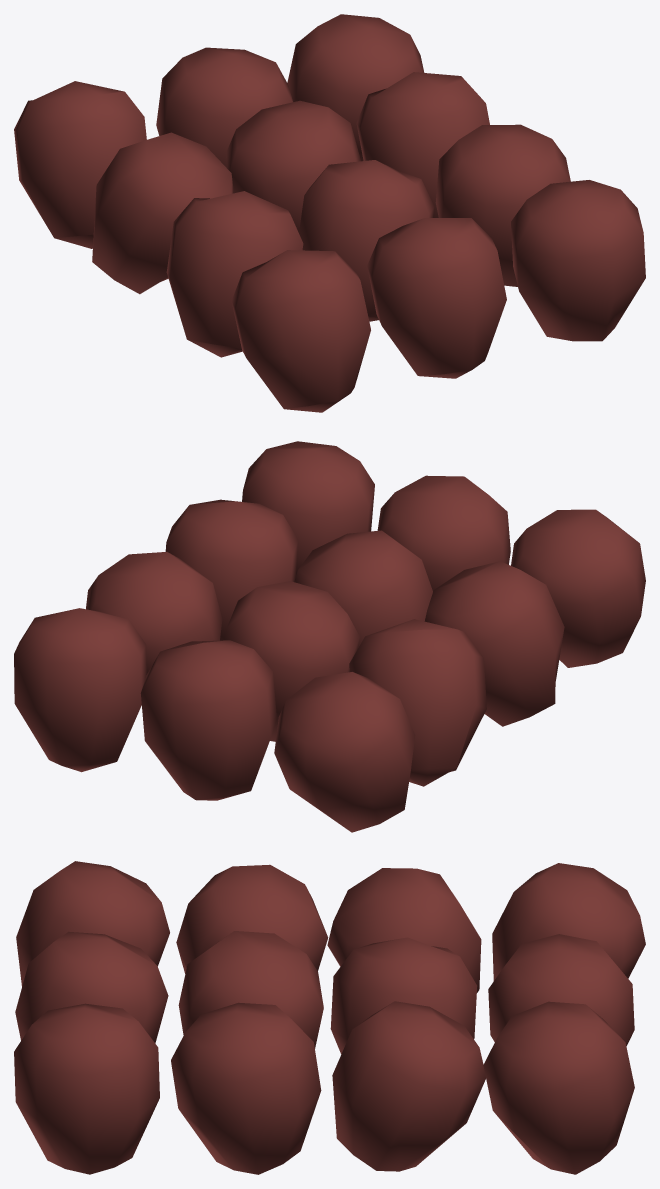
The model's file is Muat Sawit_1_Low Mesh.gltf.
3 renders of one model, top to bottom at view 1: azimuth 30°, elevation 25°; view 2: azimuth 150°, elevation 25°; view 3: azimuth 270°, elevation 25°, orthographic. The views are drawn at different scales.
Visible parts, largest first — view 1: Muat Sawit_1_Low Mesh; view 2: Muat Sawit_1_Low Mesh; view 3: Muat Sawit_1_Low Mesh.
Part boxes in pixels (left/top/right/bottom): Muat Sawit_1_Low Mesh: left=14, top=14, right=645, bottom=412; Muat Sawit_1_Low Mesh: left=14, top=441, right=645, bottom=832; Muat Sawit_1_Low Mesh: left=14, top=861, right=645, bottom=1174.
Size of the model in its own units: 1.37 by 0.5017 by 1.78.
